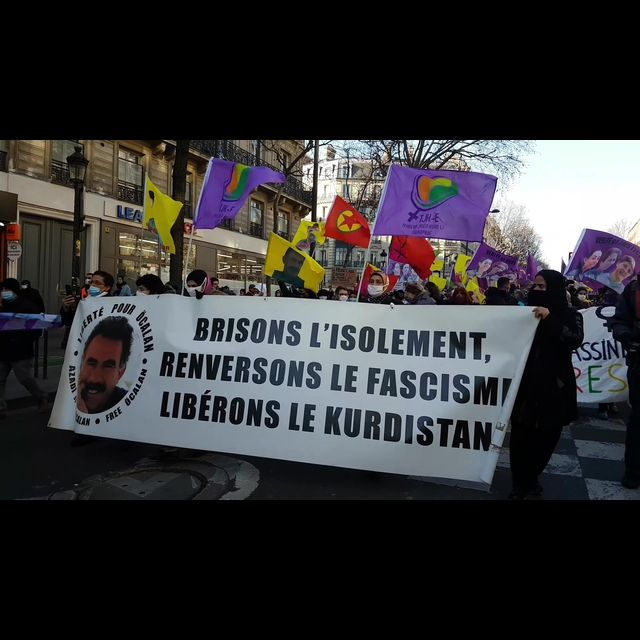APO: (74, 316, 131, 406)
PKK: (335, 204, 362, 235)
